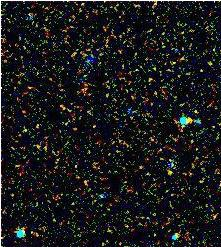star: (174, 105, 204, 135)
